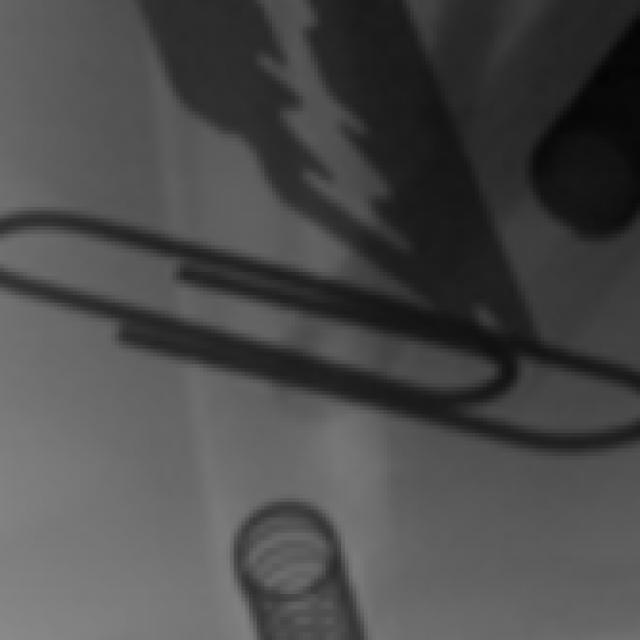BLADE: (116, 1, 572, 354)
